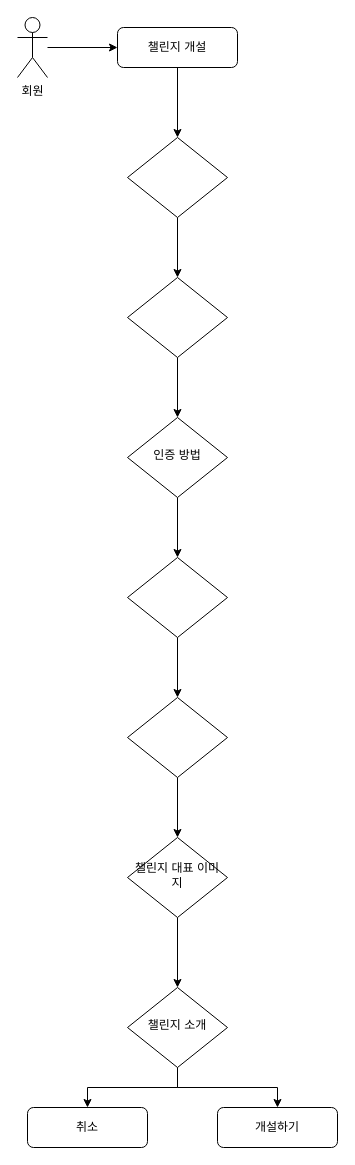
Some shapes in this 355 by 1165 pixel diagram are drawn without their labels. Each missing label, with the centre of its shape:
"모집 방식" goes at (177,737).
"주제 선택" goes at (177,177).
"챌린지 시작일" goes at (177,597).
"챌린지 제목" goes at (177,317).
